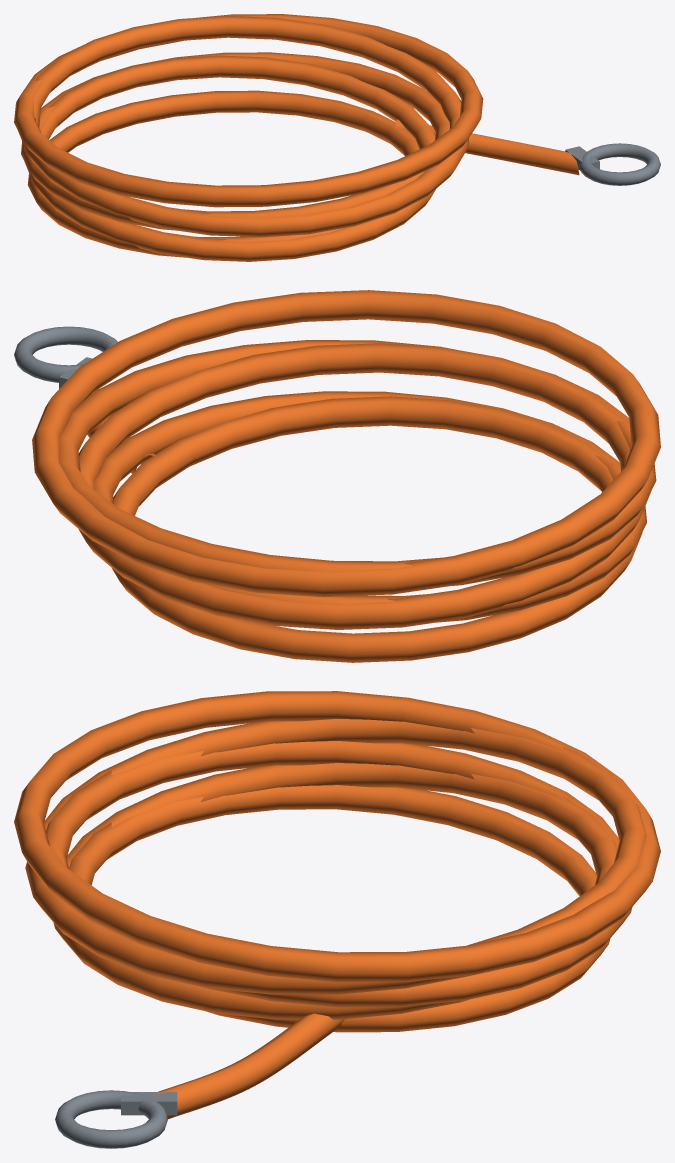
Rendered from toolkit--tagLine.glb.
3 views of the same model, one above another, from view 1: azimuth 30°, elevation 25°; view 2: azimuth 150°, elevation 25°; view 3: azimuth 270°, elevation 25° (orthographic). The views are drawn at different scales.
Parts seen in each view (by area): view 1: tagLine:shell, hook; view 2: tagLine:shell, hook; view 3: tagLine:shell, hook.
Part boxes in pixels (box(x1,y1,x2,y2)): tagLine:shell: box(14, 14, 579, 261); hook: box(565, 143, 660, 185); tagLine:shell: box(32, 290, 660, 662); hook: box(14, 326, 117, 388); tagLine:shell: box(14, 691, 660, 1119); hook: box(55, 1090, 177, 1148).
Size of the model in its own units: 0.446 by 0.0793 by 0.3436.
